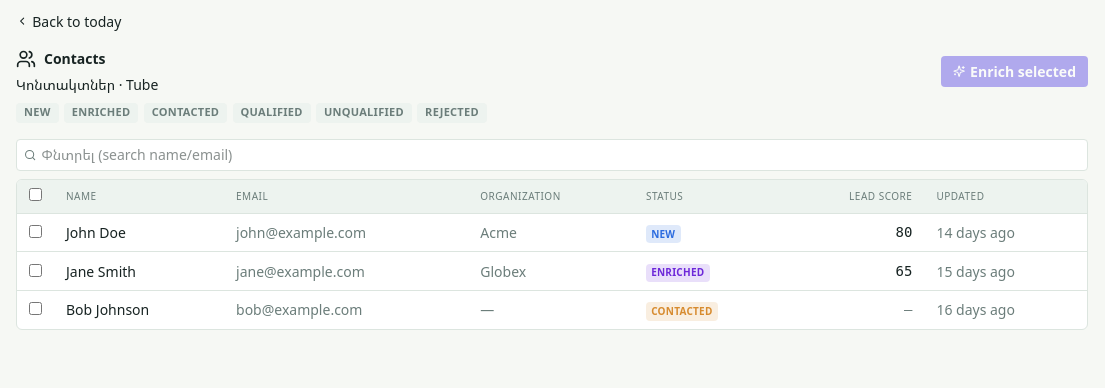
ContactsWorkspace — bulk enrich › renders an error alert when postJson rejects
The image size is (1105, 388).
Click the 1st checkbox with test id "tube-contact-checkbox" at (36, 231), box [29,225,42,238]
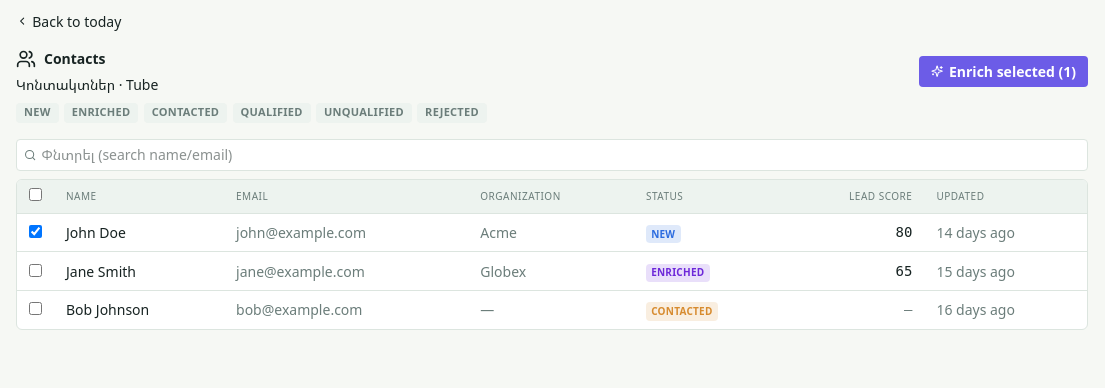
Click the button with test id "tube-contacts-enrich" at (1004, 71), box [920,56,1088,87]
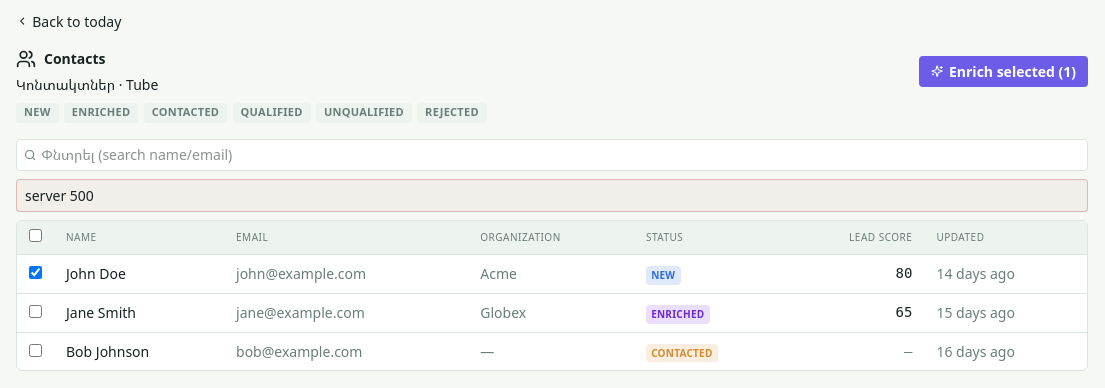
Expected: the message reads "server 500", [25,186,94,205]
